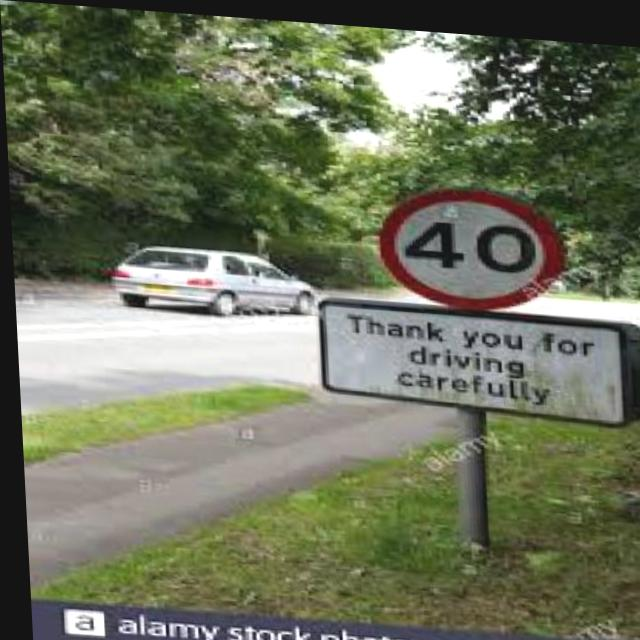limit40: (372, 170, 565, 307)
